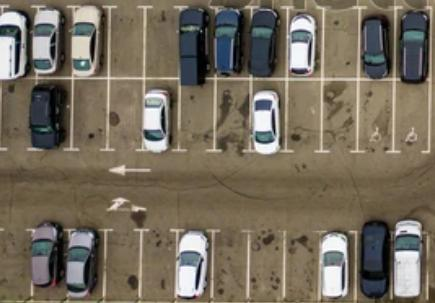Car: (175, 226, 211, 292), (138, 79, 171, 150), (250, 7, 283, 78), (27, 78, 64, 140), (180, 6, 210, 79), (75, 1, 104, 76), (67, 227, 97, 299), (212, 5, 241, 74), (29, 234, 62, 292), (32, 13, 63, 74), (286, 8, 313, 73), (397, 224, 422, 289), (316, 233, 343, 293), (250, 93, 279, 148), (359, 223, 383, 289), (0, 21, 28, 71), (364, 13, 386, 75), (400, 19, 426, 71)
Empty: (147, 9, 178, 73), (74, 86, 106, 141), (328, 13, 353, 73), (151, 241, 178, 296), (107, 239, 135, 292), (325, 85, 353, 137), (118, 10, 141, 68), (184, 83, 208, 138), (255, 238, 279, 293), (221, 88, 243, 144), (401, 88, 425, 137), (5, 233, 26, 289), (113, 85, 132, 146), (365, 95, 389, 143), (295, 86, 316, 138), (218, 244, 240, 293), (3, 91, 24, 142), (289, 246, 310, 296)
